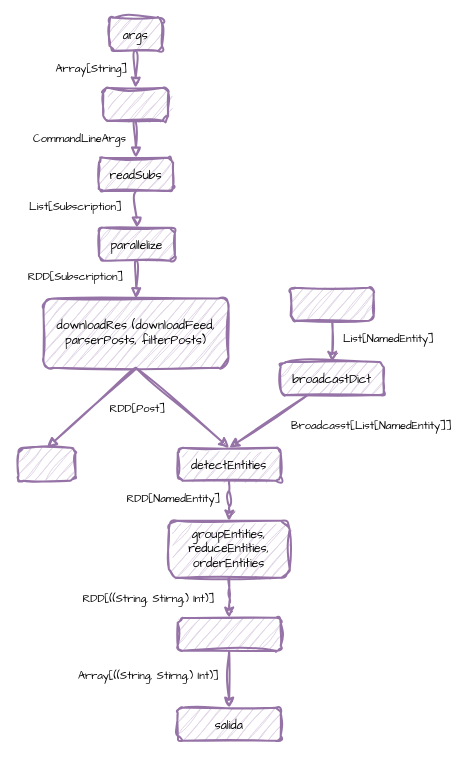
Some shapes in this 469 by 759 pixel diagram are drawn without their labels. Each missing label, with the centre of its shape:
"cmdArgs" goes at point 135,103.
"collect" goes at point 228,633.
"count" goes at point 46,463.
"loadDict" goes at point 331,303.
